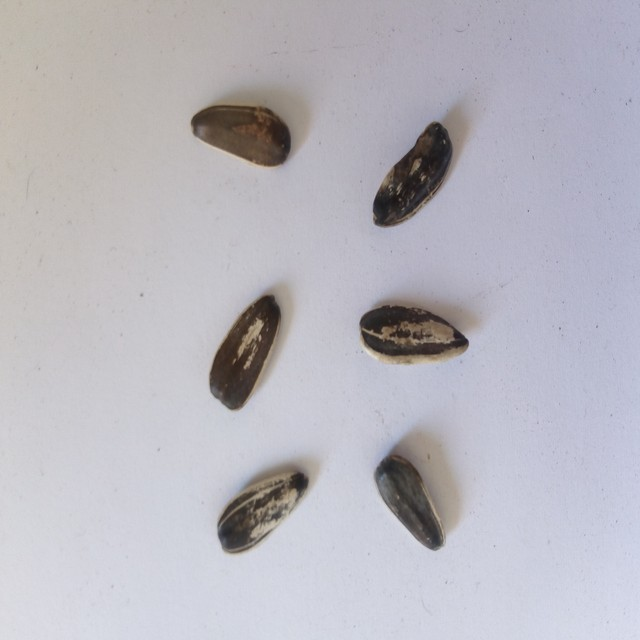girasol: (364, 114, 458, 235), (204, 291, 289, 415), (212, 463, 318, 558), (355, 296, 477, 370), (371, 448, 450, 557), (182, 98, 295, 174)
